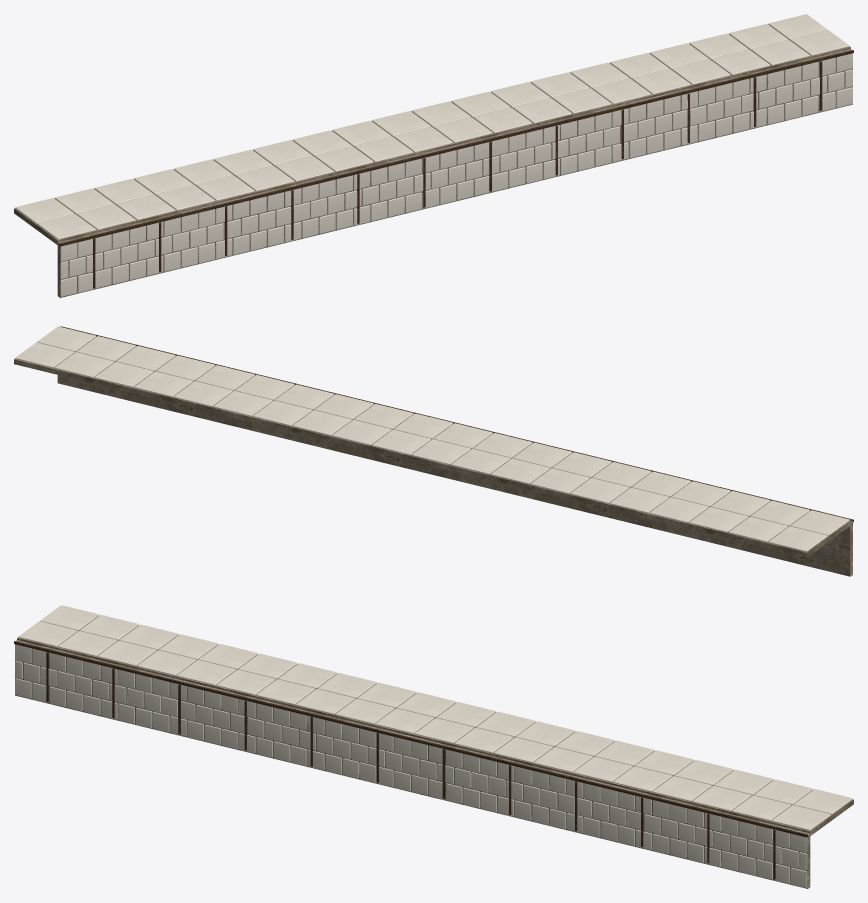
File: PROP_MorningWhite_Counter_Porcelain.glb
3 renders of one model, top to bottom at view 1: azimuth 30°, elevation 25°; view 2: azimuth 150°, elevation 25°; view 3: azimuth 330°, elevation 25°, orthographic.
Parts seen in each view (by area): view 1: PROP_MorningWhite_Counter_Porcelain; view 2: PROP_MorningWhite_Counter_Porcelain; view 3: PROP_MorningWhite_Counter_Porcelain.
Boxes of the visible parts, box(x1,y1,x2,y2) form: PROP_MorningWhite_Counter_Porcelain: box(14, 14, 853, 297); PROP_MorningWhite_Counter_Porcelain: box(14, 326, 853, 576); PROP_MorningWhite_Counter_Porcelain: box(14, 605, 853, 888).
Bounding box in the file's own units: 6.9 × 0.479 × 0.709.
Materials: 3 (3 with a texture image).
